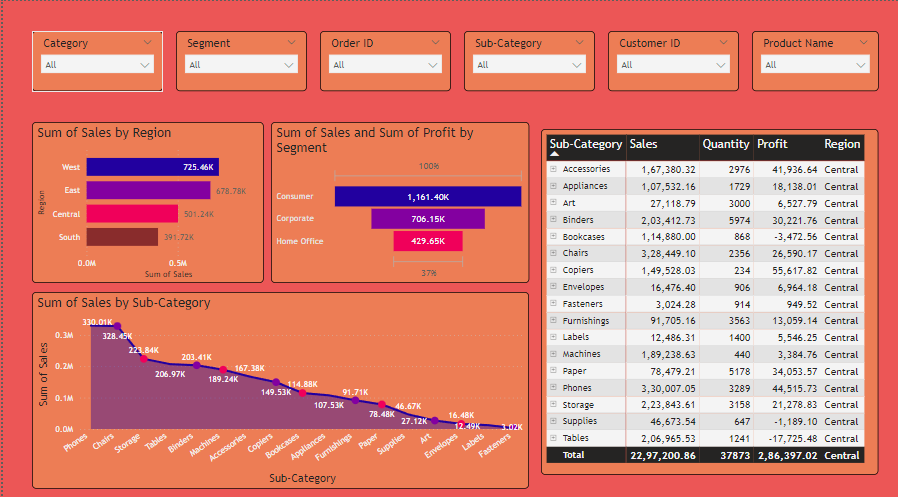

The page's visual inventory and layout, read from the dashboard file:
{"tool":"powerbi","page":{"name":"Summary","canvas":[1280,720],"ordinal":0},"visuals":[{"type":"pivotTable","fields":{"Rows":["Superstore.Sub-Category","Superstore.Segment","Superstore.Product Name"],"Values":["Sum(Superstore.Sales)","Sum(Superstore.Quantity)","Sum(Superstore.Profit)","Min(Superstore.Region)"]},"box":[769,182.9,482.4,493.9],"z":0},{"type":"slicer","fields":{"Values":["Superstore.Category"]},"box":[41.8,43.2,187,86.4],"z":1000},{"type":"slicer","fields":{"Values":["Superstore.Segment"]},"box":[247.4,43.2,187,86.4],"z":2000},{"type":"slicer","fields":{"Values":["Superstore.Order ID"]},"box":[453,43.2,187,86.4],"z":3000},{"type":"slicer","fields":{"Values":["Superstore.Sub-Category"]},"box":[658.7,43.2,187,86.4],"z":3001},{"type":"slicer","fields":{"Values":["Superstore.Customer ID"]},"box":[864.3,43.2,187,86.4],"z":3002},{"type":"slicer","fields":{"Values":["Superstore.Product Name"]},"box":[1069.9,43.2,181.4,86.4],"z":3003},{"type":"clusteredBarChart","fields":{"Category":["Superstore.Region","Superstore.City"],"Y":["Sum(Superstore.Sales)"]},"box":[41.8,172.8,331.2,230.4],"z":3004},{"type":"funnel","fields":{"Category":["Superstore.Segment"],"Y":["Sum(Superstore.Sales)"]},"box":[383,172.8,368.6,230.4],"z":3005},{"type":"areaChart","fields":{"Category":["Superstore.Sub-Category"],"Y":["Sum(Superstore.Sales)"]},"box":[41.8,416.2,709.9,280.8],"z":3006}]}

Visuals, with their boxes in screenshot pixels (x1, y1, x2, y2), scaled from the page's 1280x720 canvas onto the 898x497 screenshot:
pivotTable - Superstore.Sub-Category x Superstore.Segment: pyautogui.locateOnScreen(540, 126, 878, 467)
slicer - Superstore.Category: pyautogui.locateOnScreen(29, 30, 161, 89)
slicer - Superstore.Segment: pyautogui.locateOnScreen(174, 30, 305, 89)
slicer - Superstore.Order ID: pyautogui.locateOnScreen(318, 30, 449, 89)
slicer - Superstore.Sub-Category: pyautogui.locateOnScreen(462, 30, 593, 89)
slicer - Superstore.Customer ID: pyautogui.locateOnScreen(606, 30, 738, 89)
slicer - Superstore.Product Name: pyautogui.locateOnScreen(751, 30, 878, 89)
clusteredBarChart - Superstore.Region x Superstore.City: pyautogui.locateOnScreen(29, 119, 262, 278)
funnel - Superstore.Segment x Sum(Superstore.Sales): pyautogui.locateOnScreen(269, 119, 527, 278)
areaChart - Superstore.Sub-Category x Sum(Superstore.Sales): pyautogui.locateOnScreen(29, 287, 527, 481)
